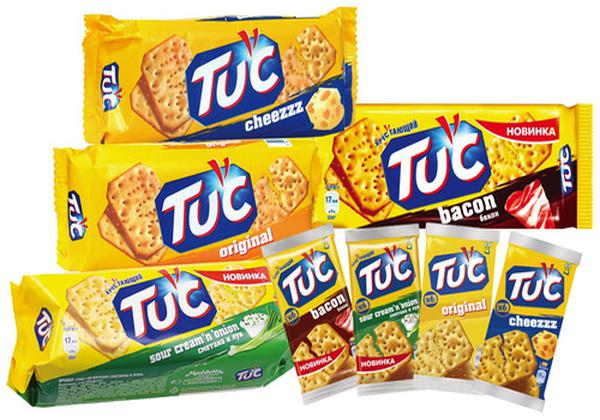crackers tuc: (321, 105, 582, 227), (95, 18, 351, 141), (21, 274, 283, 391), (62, 150, 314, 263)
